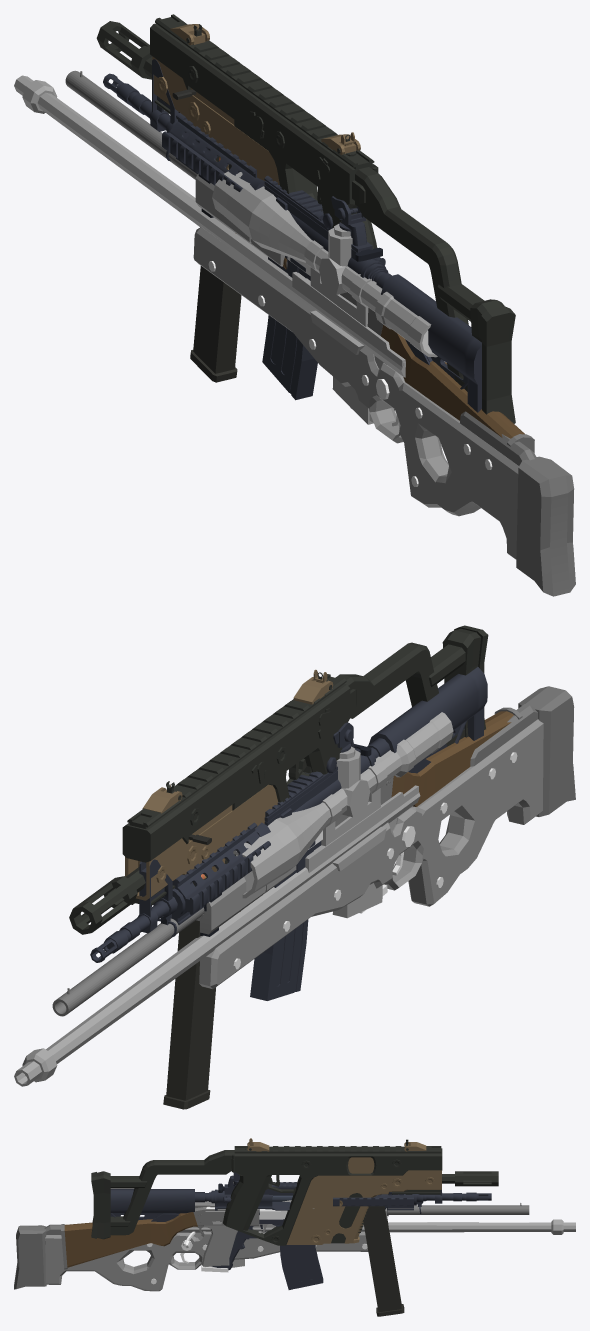
The model's file is weapons.glb.
The picture shows the model from 3 angles, top to bottom: view 1: azimuth 30°, elevation 25°; view 2: azimuth 150°, elevation 25°; view 3: azimuth 270°, elevation 25°; orthographic projection. The views are drawn at different scales.
Parts seen in each view (by area): view 1: Body_Kriss_0, L115_Awp_60_0, L115_Awp_70_0, Body_0, L115_Awp_80_0, Body.004_0, Loader_Kriss_0, Caricatore_0, Usp45_Silenced_70_0, L115_Awp_30_0; view 2: Body_Kriss_0, L115_Awp_70_0, L115_Awp_60_0, Body_0, Body.004_0, Loader_Kriss_0, L115_Awp_80_0, Caricatore_0, Usp45_Silenced_70_0, L115_Awp_30_0, L115_Awp_Magazine_60_0; view 3: Body_Kriss_0, Body_0, L115_Awp_70_0, Body.004_0, Loader_Kriss_0, L115_Awp_60_0, L115_Awp_80_0, Caricatore_0, Usp45_Silenced_70_0, Part1_Kriss_0, Usp45_Silenced_30_0, L115_Awp_30_0.
Part boxes in pixels (x1,y1,x2,y2): Body_Kriss_0: (96, 14, 515, 423); L115_Awp_60_0: (14, 75, 437, 377); L115_Awp_70_0: (193, 227, 518, 559); Body_0: (103, 59, 481, 412); L115_Awp_80_0: (460, 411, 575, 596); Body.004_0: (65, 70, 534, 453); Loader_Kriss_0: (190, 156, 241, 382); Caricatore_0: (262, 315, 317, 400); Usp45_Silenced_70_0: (195, 174, 394, 410); L115_Awp_30_0: (208, 261, 492, 486); Body_Kriss_0: (69, 625, 488, 934); L115_Awp_70_0: (199, 719, 543, 988); L115_Awp_60_0: (14, 712, 453, 1086); Body_0: (90, 667, 487, 962); Body.004_0: (52, 707, 522, 1016); Loader_Kriss_0: (163, 874, 215, 1109); L115_Awp_80_0: (470, 686, 575, 816); Caricatore_0: (250, 919, 308, 1000); Usp45_Silenced_70_0: (196, 865, 296, 934); L115_Awp_30_0: (233, 752, 517, 969); L115_Awp_Magazine_60_0: (332, 883, 382, 918); Body_Kriss_0: (91, 1138, 498, 1245); Body_0: (110, 1172, 491, 1270); L115_Awp_70_0: (45, 1231, 368, 1291); Body.004_0: (61, 1203, 529, 1269); Loader_Kriss_0: (363, 1206, 404, 1316); L115_Awp_60_0: (179, 1182, 575, 1237); L115_Awp_80_0: (14, 1224, 65, 1289); Caricatore_0: (280, 1245, 323, 1289); Usp45_Silenced_70_0: (202, 1208, 388, 1266); Part1_Kriss_0: (348, 1157, 374, 1173); Usp45_Silenced_30_0: (205, 1207, 287, 1219); L115_Awp_30_0: (147, 1241, 367, 1284).
Size of the model in its own units: 0.0823 by 0.4111 by 1.2.
